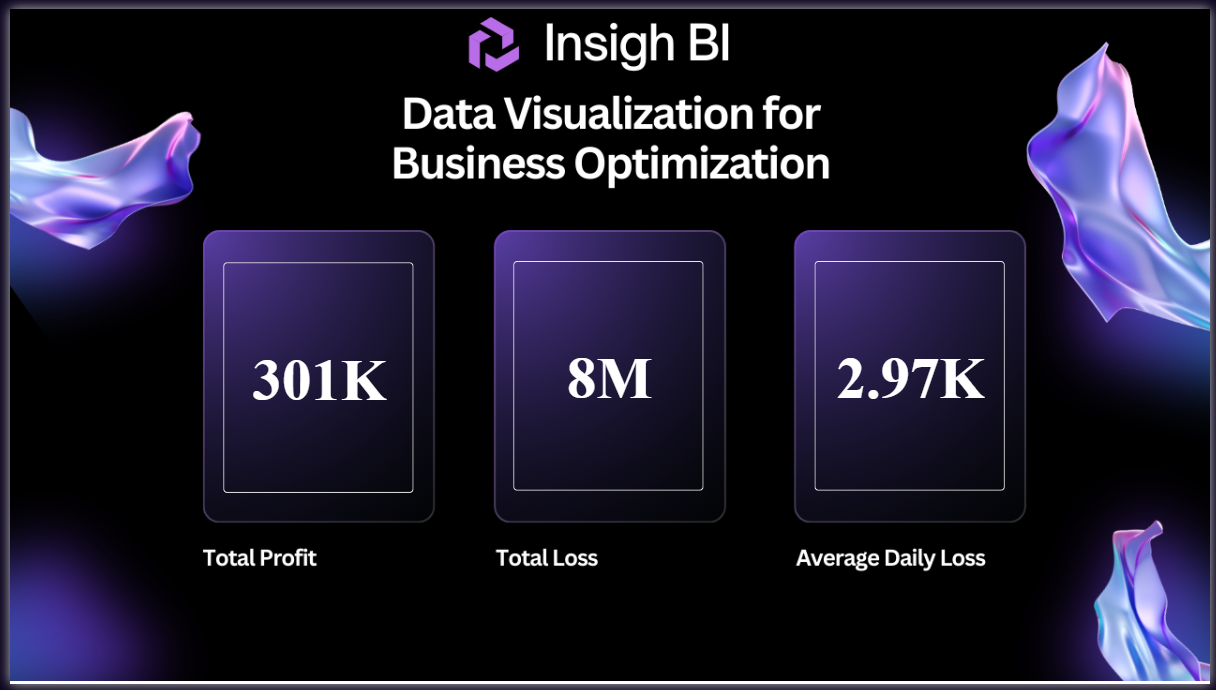

This screenshot's page, from the dashboard's own definition file:
{"tool":"powerbi","page":{"name":"Page 2","canvas":[1280,720],"ordinal":1},"visuals":[{"type":"cardVisual","fields":{"Data":["Measures Table.Total Profit"]},"box":[210,252.9,237.1,280],"z":0},{"type":"cardVisual","fields":{"Data":["Measures Table.Total Loss"]},"box":[520.1,252.5,237.4,279.9],"z":1000},{"type":"cardVisual","fields":{"Data":["Measures Table.Average Loss Per Day"]},"box":[841.2,252.5,237.4,279.9],"z":2000}]}

Visuals, with their boxes in screenshot pixels (x1, y1, x2, y2), scaled from the page's 1280x720 canvas onto the 1216x690 screenshot:
cardVisual - Measures Table.Total Profit: l=200, t=242, r=425, b=511
cardVisual - Measures Table.Total Loss: l=494, t=242, r=720, b=510
cardVisual - Measures Table.Average Loss Per Day: l=799, t=242, r=1025, b=510
